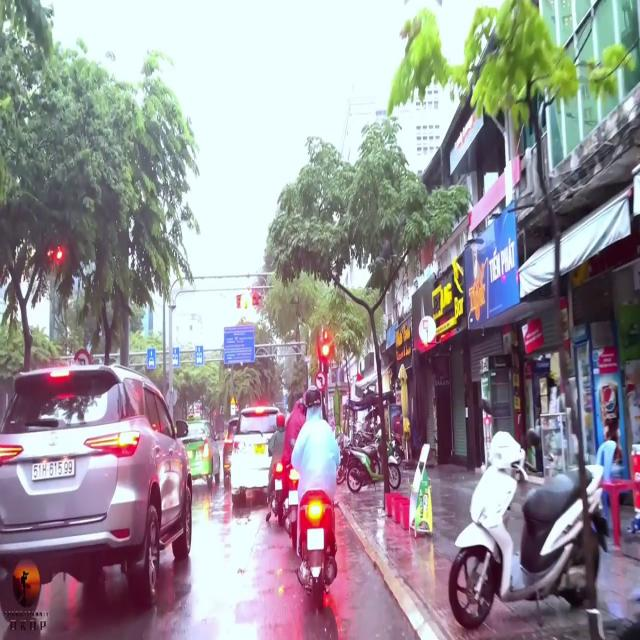bien_trang: (30, 456, 75, 485)
